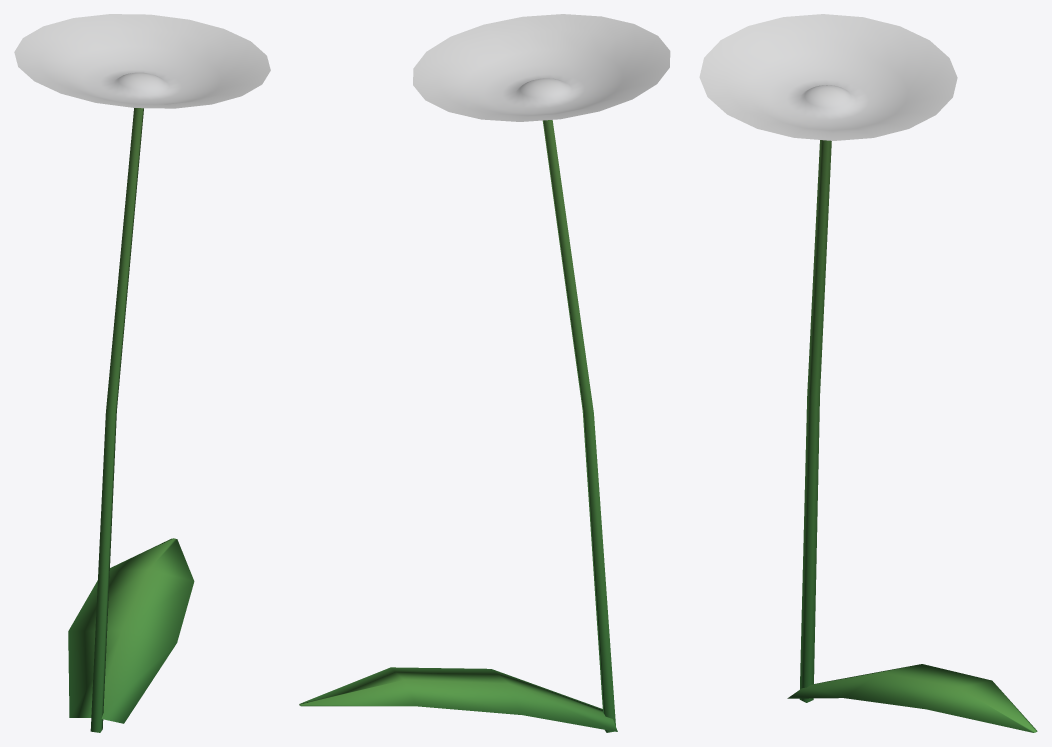
Rendered from daisy_single.glb.
The picture shows the model from 3 angles, left to right: view 1: azimuth 30°, elevation 25°; view 2: azimuth 150°, elevation 25°; view 3: azimuth 270°, elevation 25°; orthographic projection.
Parts seen in each view (by area): view 1: daisy_single; view 2: daisy_single; view 3: daisy_single.
Boxes of the visible parts, <box> form: daisy_single: <box>14,14,270,732</box>; daisy_single: <box>299,14,670,732</box>; daisy_single: <box>699,14,1037,732</box>.
Bounding box in the file's own units: 0.0541 × 0.1369 × 0.0636.
